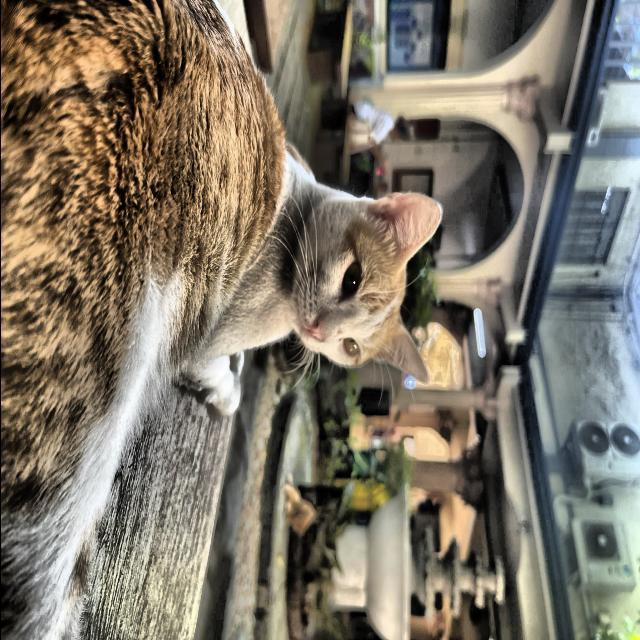Healthy skin: (19, 125, 137, 354), (200, 126, 272, 288)
